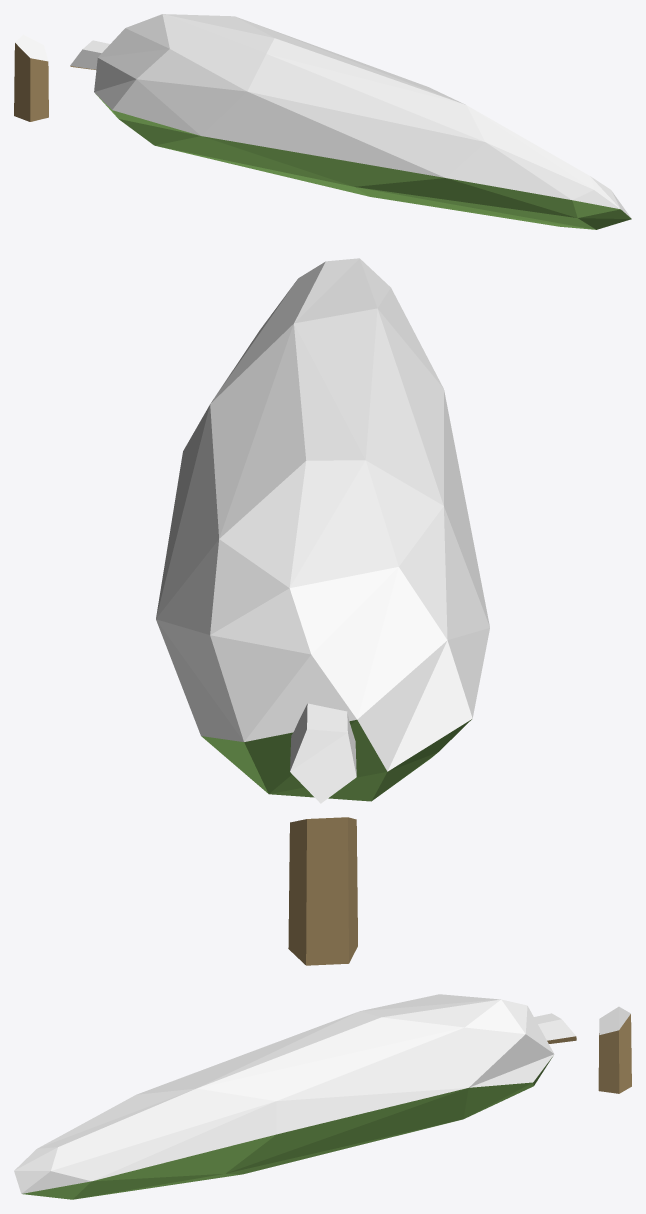
The model's file is Thuja_Tree_crk_m_Snow_01.fbx.
3 renders of one model, top to bottom at view 1: azimuth 30°, elevation 25°; view 2: azimuth 150°, elevation 25°; view 3: azimuth 270°, elevation 25°, orthographic. The views are drawn at different scales.
Visible parts, largest first — view 1: Thuja_Tree_crk_m_Snow_01; view 2: Thuja_Tree_crk_m_Snow_01; view 3: Thuja_Tree_crk_m_Snow_01.
Part boxes in pixels (x1,y1,x2,y2): Thuja_Tree_crk_m_Snow_01: [14, 14, 631, 229]; Thuja_Tree_crk_m_Snow_01: [156, 258, 489, 965]; Thuja_Tree_crk_m_Snow_01: [14, 994, 631, 1199].
Size of the model in its own units: 265 by 104 by 448.
